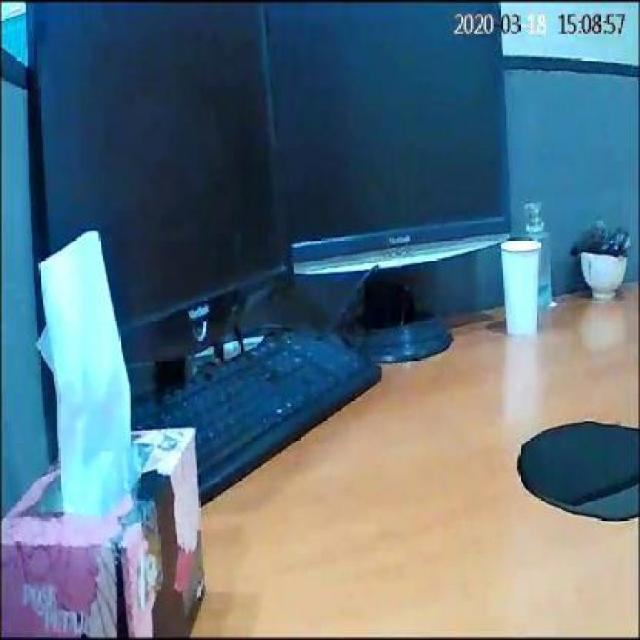spill: (510, 414, 636, 520)
